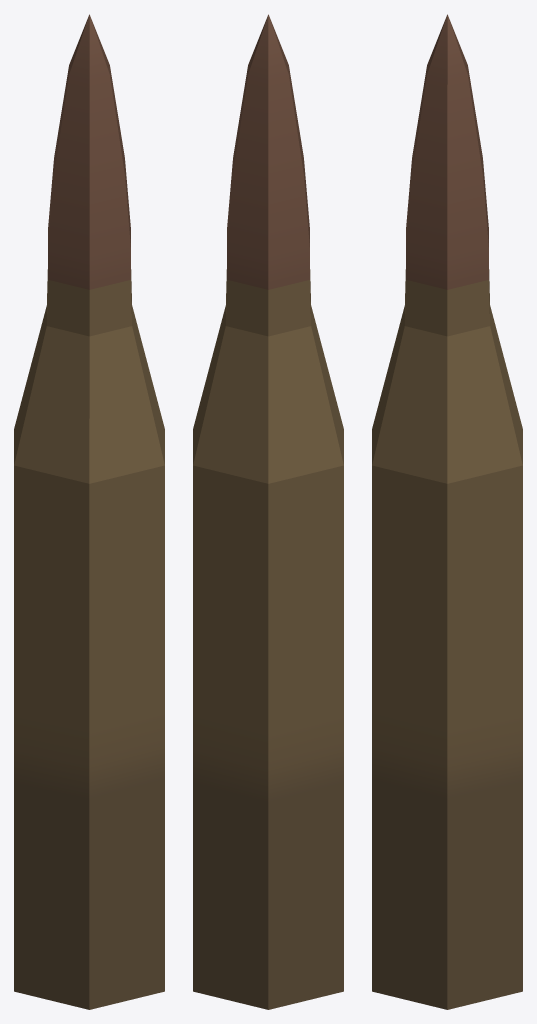
The model's file is SM_Wep_Ammo_Bullet_02.fbx.
3 renders of one model, left to right at view 1: azimuth 30°, elevation 25°; view 2: azimuth 150°, elevation 25°; view 3: azimuth 270°, elevation 25°, orthographic.
Visible parts, largest first — view 1: SM_Wep_Ammo_Bullet_02; view 2: SM_Wep_Ammo_Bullet_02; view 3: SM_Wep_Ammo_Bullet_02.
Part boxes in pixels (x1,y1,x2,y2): SM_Wep_Ammo_Bullet_02: (14,14,164,1009); SM_Wep_Ammo_Bullet_02: (193,14,343,1009); SM_Wep_Ammo_Bullet_02: (372,14,522,1009).
Bounding box in the file's own units: 2.37 × 14.41 × 2.05.
